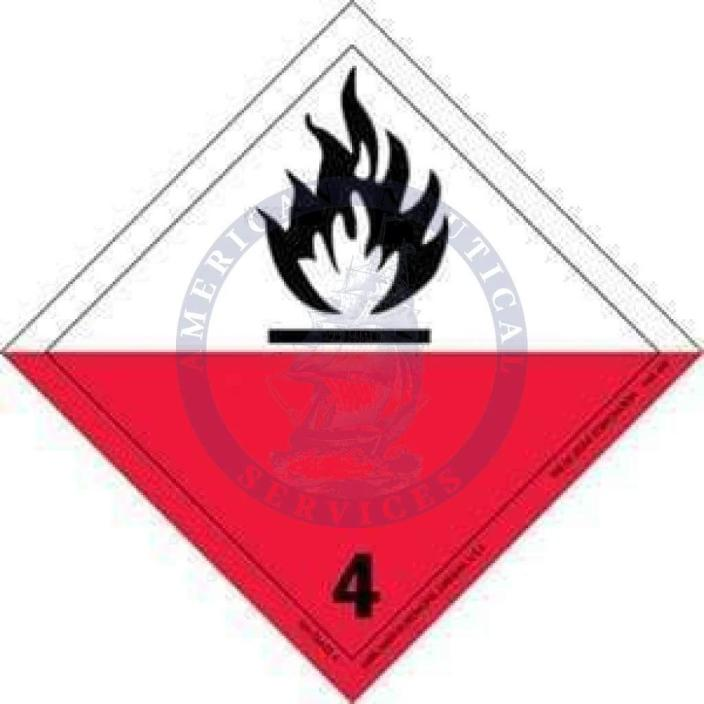charging station: (7, 3, 696, 696)
